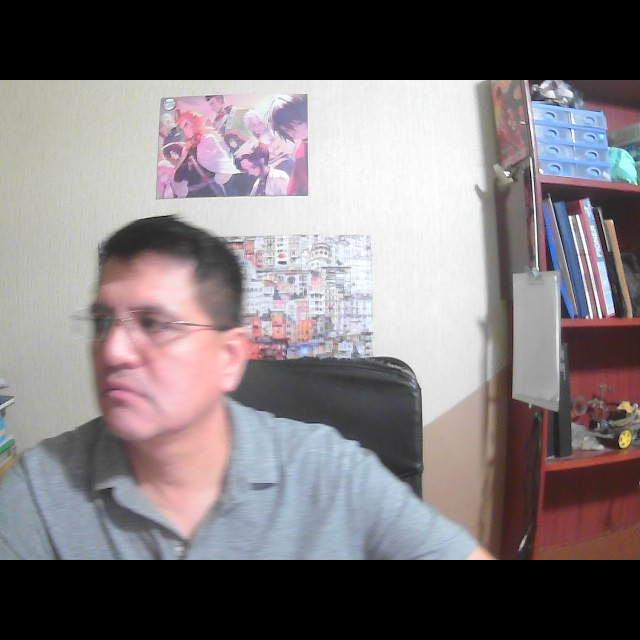cesar: (56, 198, 270, 506)
